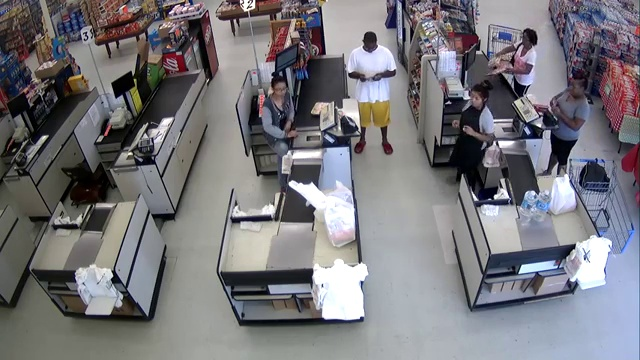face: (273, 81, 287, 98), (521, 33, 534, 49), (569, 82, 583, 96), (470, 92, 483, 107), (364, 38, 377, 53)
